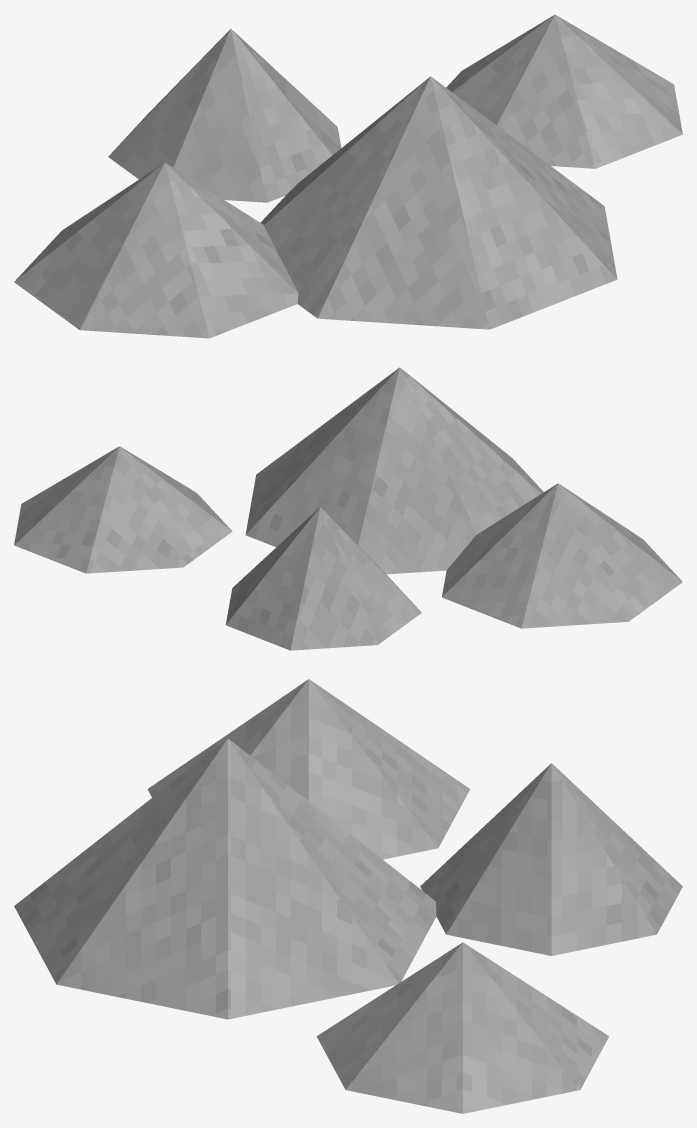
Rendered from level_blockout_cave_rockfall_heap.glb.
3 views of the same model, one above another, from view 1: azimuth 30°, elevation 25°; view 2: azimuth 150°, elevation 25°; view 3: azimuth 270°, elevation 25° (orthographic). The views are drawn at different scales.
Parts seen in each view (by area): view 1: level_blockout_cave_rockfall_heap; view 2: level_blockout_cave_rockfall_heap; view 3: level_blockout_cave_rockfall_heap.
Part boxes in pixels (bbox=[...]): level_blockout_cave_rockfall_heap: bbox=[14, 14, 682, 338]; level_blockout_cave_rockfall_heap: bbox=[14, 367, 682, 650]; level_blockout_cave_rockfall_heap: bbox=[14, 679, 682, 1113].
Bounding box in the file's own units: 2.29 × 0.54 × 1.74.
1 material, 1 textured.
